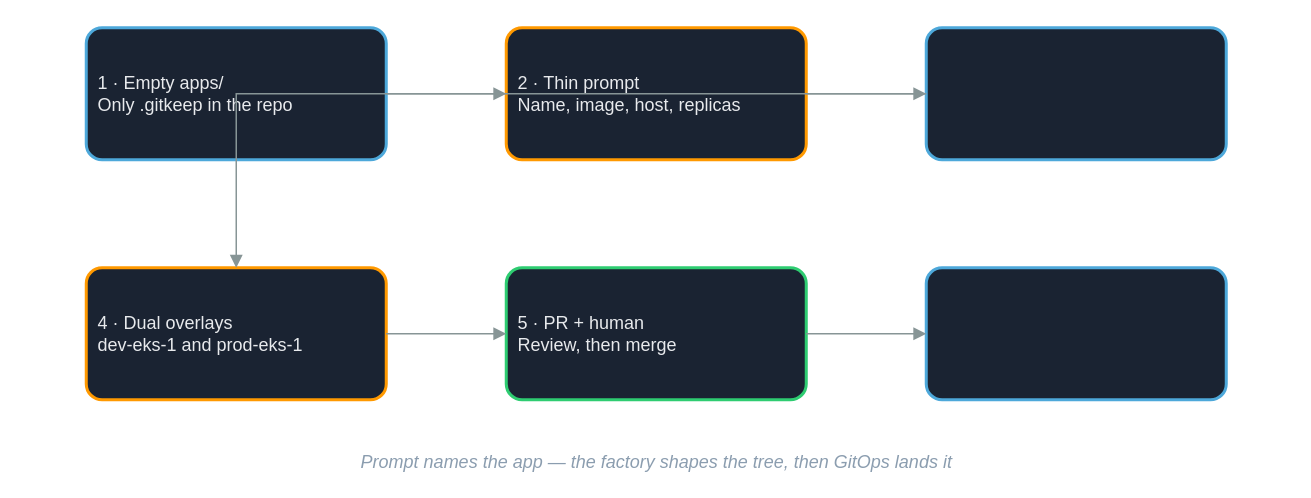
Some shapes in this 1311 by 498 pixel diagram are drawn without their labels. Here are the shapes that lost their labels. From the top down, the centre of each, then its label:
At (x=1075, y=93): "3 · add-app Steering + skill fill the rest".
At (x=1075, y=333): "6 · Argo CD sync Git wins on the cluster".
